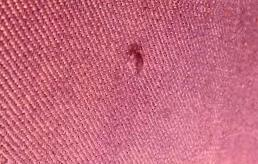knot: (123, 41, 151, 76)
